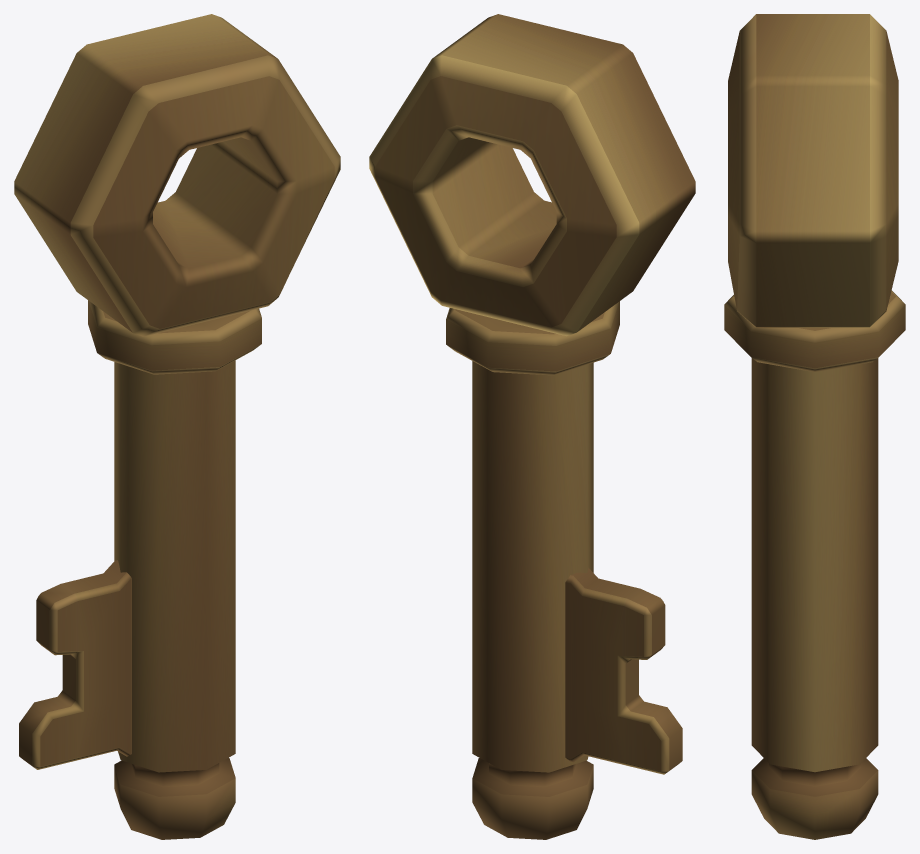
File: Key.fbx
The picture shows the model from 3 angles, left to right: view 1: azimuth 30°, elevation 25°; view 2: azimuth 150°, elevation 25°; view 3: azimuth 270°, elevation 25°; orthographic projection.
Visible parts, largest first — view 1: Circle.012; view 2: Circle.012; view 3: Circle.012.
Part boxes in pixels (x1,y1,x2,y2): Circle.012: (14, 14, 340, 839); Circle.012: (369, 14, 695, 839); Circle.012: (724, 14, 905, 839).
Size of the model in its own units: 0.2057 by 0.5416 by 0.1135.
